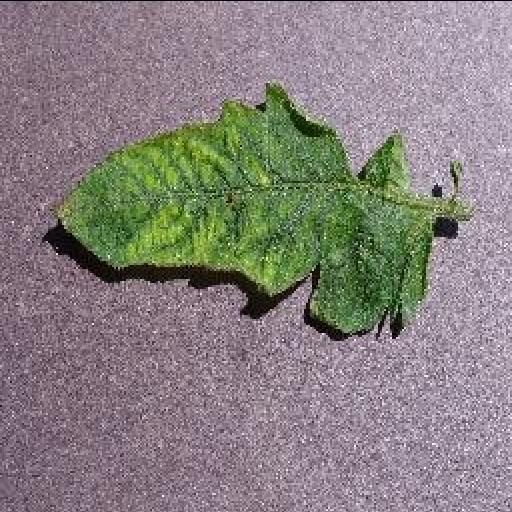disease_tomato: (52, 74, 434, 338)
